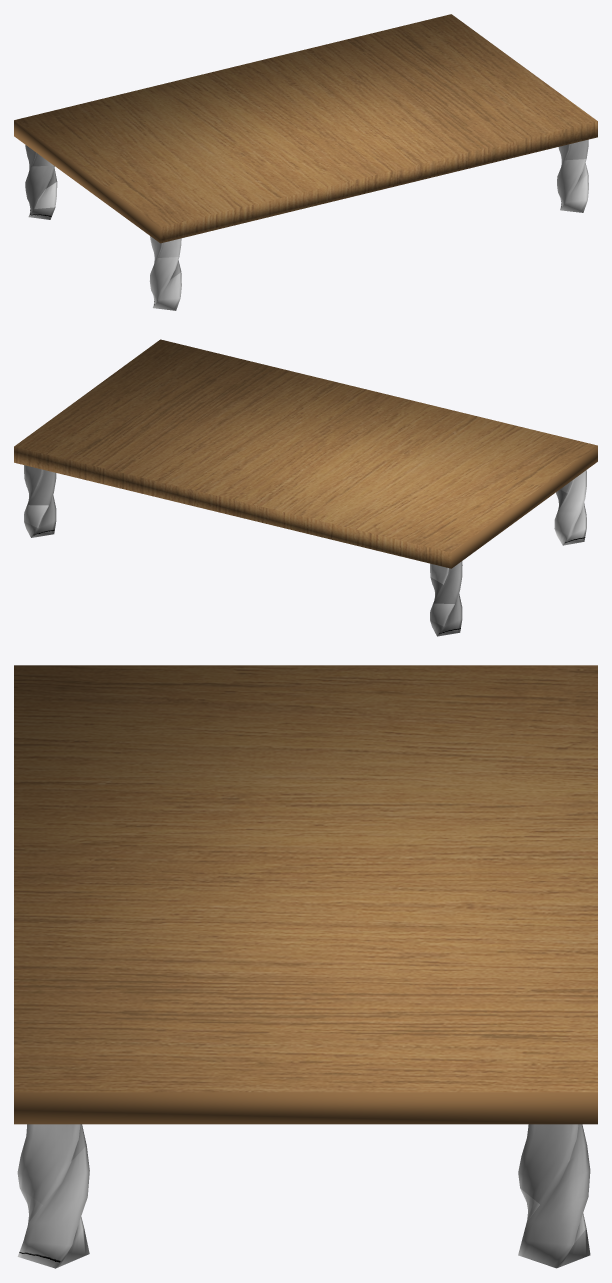
Rendered from Mesa_Salon.fbx.
The picture shows the model from 3 angles, top to bottom: view 1: azimuth 30°, elevation 25°; view 2: azimuth 150°, elevation 25°; view 3: azimuth 270°, elevation 25°; orthographic projection. The views are drawn at different scales.
Parts seen in each view (by area): view 1: Mesa_Salon_Geo; view 2: Mesa_Salon_Geo; view 3: Mesa_Salon_Geo.
Part boxes in pixels (left/top/right/bottom): Mesa_Salon_Geo: left=14, top=14, right=597, bottom=310; Mesa_Salon_Geo: left=14, top=339, right=597, bottom=636; Mesa_Salon_Geo: left=14, top=665, right=597, bottom=1268.
Size of the model in its own units: 785 by 154 by 455.
